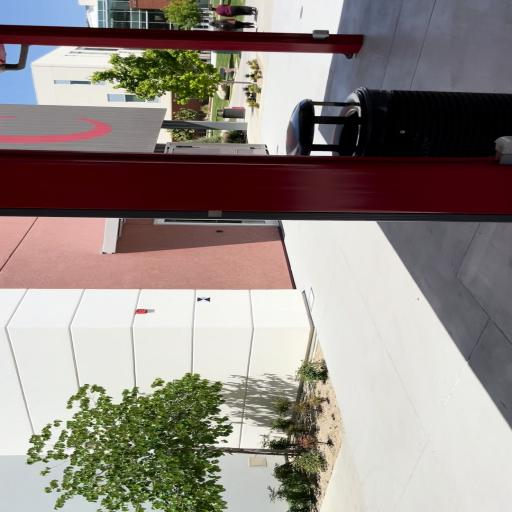target6: (197, 297, 211, 302)
